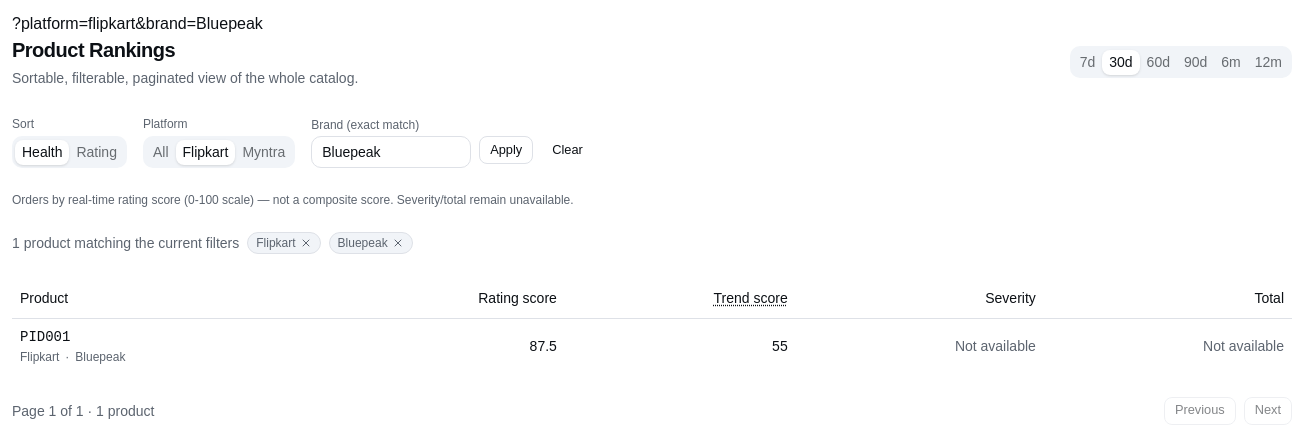
Test: Products / Rankings (Phase 7 Step 4) › 23. shows real, removable filter chips reflecting the current platform/brand filters
Expected: the link "PID001" is shown, [20, 328, 70, 344]
Expected: the button named "remove brand filter (Bluepeak)" is shown, [392, 237, 404, 249]
Click the button named "remove platform filter" at (306, 243), box [300, 237, 312, 249]
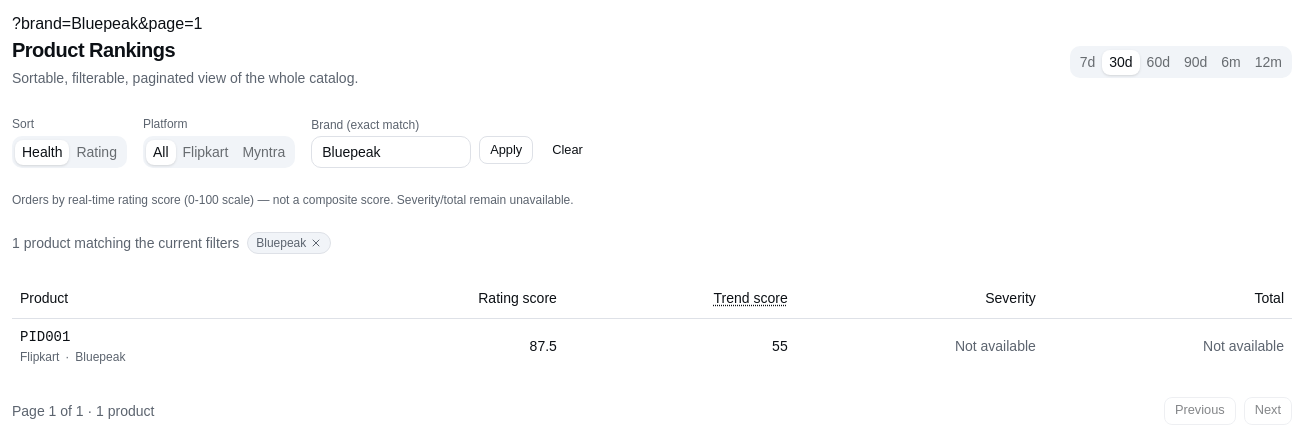
Now the text with test id "location-search" no longer shows "platform="
